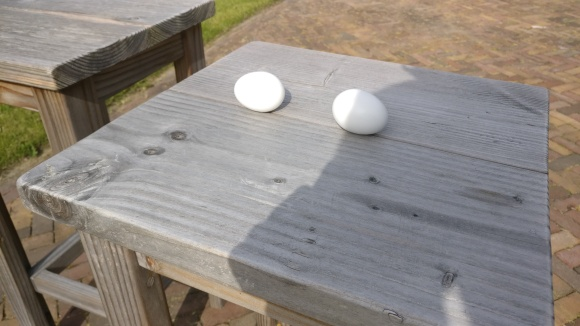egg: (332, 87, 388, 135), (233, 70, 285, 114)
